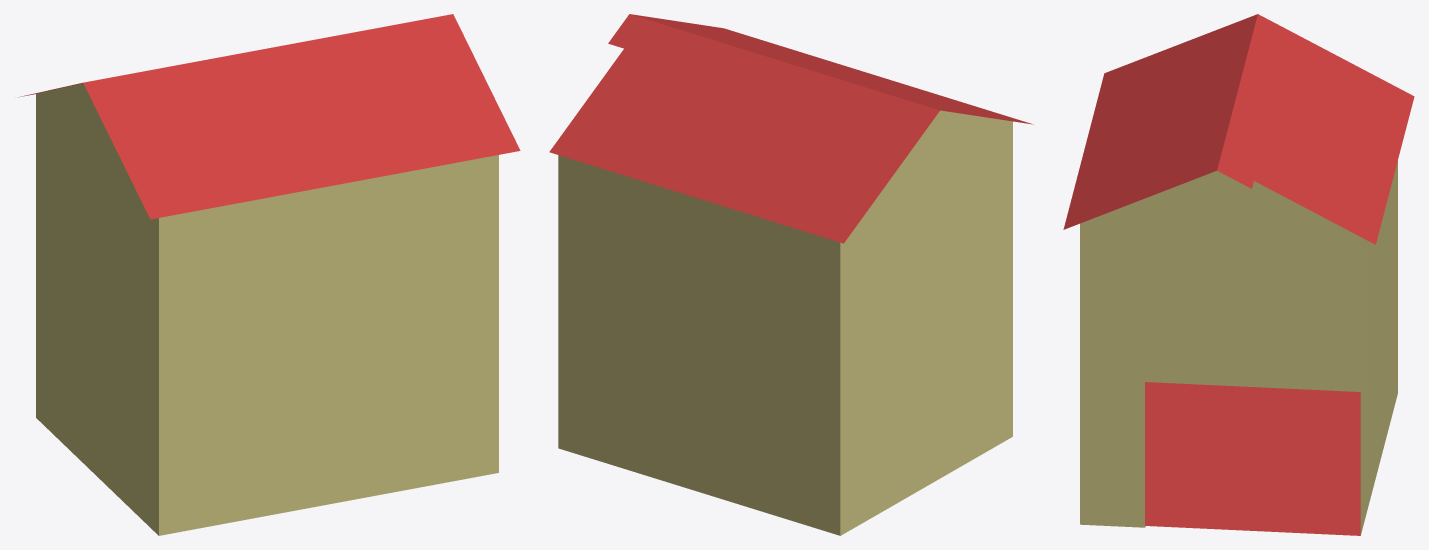
3 renders of one model, left to right at view 1: azimuth 30°, elevation 25°; view 2: azimuth 150°, elevation 25°; view 3: azimuth 270°, elevation 25°, orthographic. The views are drawn at different scales.
Bounding box in the file's own units: 12.94 × 11.6 × 13.38.
